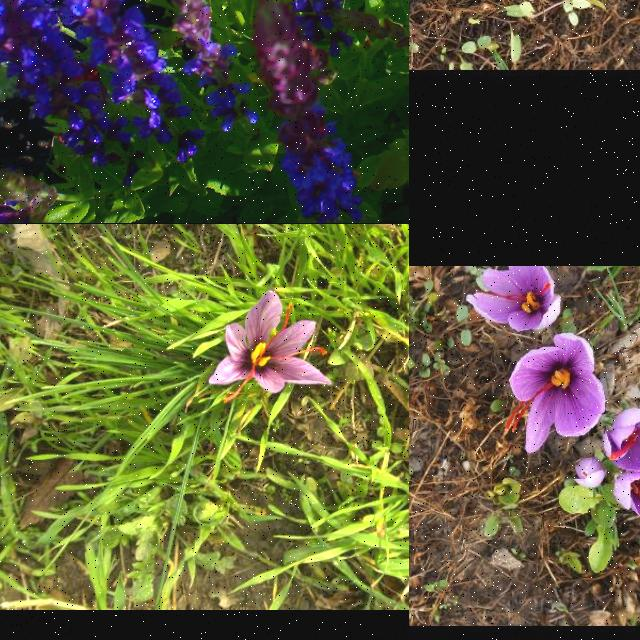flower: (208, 291, 332, 404), (504, 332, 606, 456), (464, 266, 562, 334), (602, 407, 640, 472), (612, 465, 640, 531)
